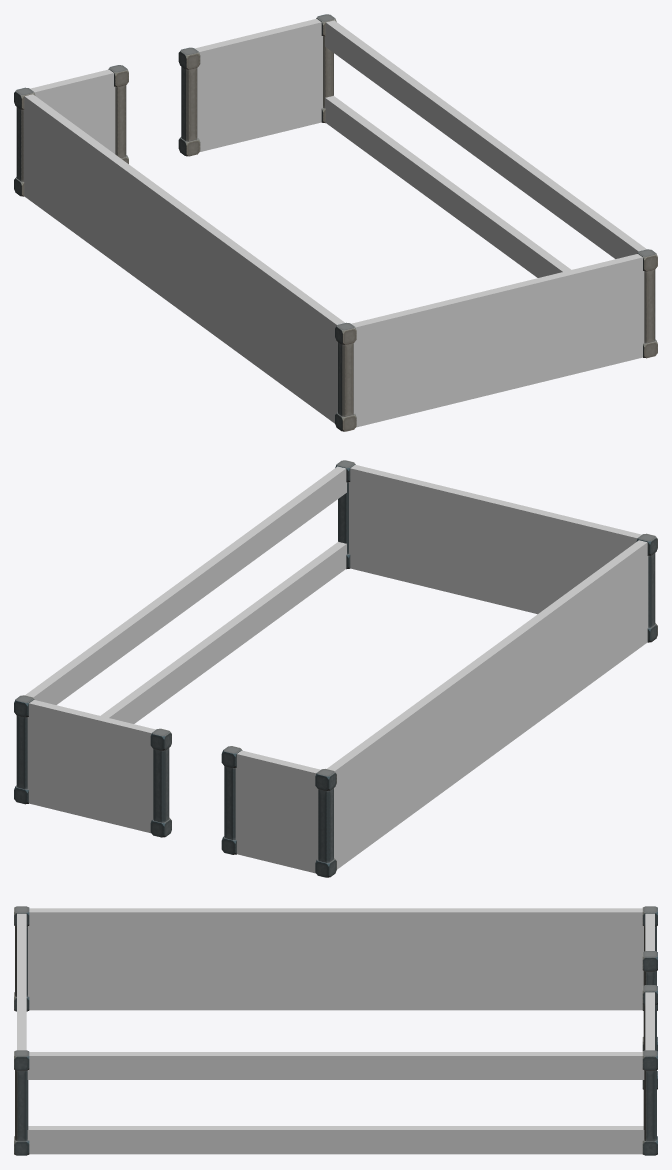
The model's file is Enclosure_TEST_SIZE.fbx.
The picture shows the model from 3 angles, top to bottom: view 1: azimuth 30°, elevation 25°; view 2: azimuth 150°, elevation 25°; view 3: azimuth 270°, elevation 25°; orthographic projection. The views are drawn at different scales.
Parts seen in each view (by area): view 1: Enclosure_Walls_LOW, Enclosure_Poles_LOW; view 2: Enclosure_Walls_LOW, Enclosure_Poles_LOW; view 3: Enclosure_Walls_LOW, Enclosure_Poles_LOW.
Part boxes in pixels (<box>): Enclosure_Walls_LOW: <box>23,18,646,427</box>; Enclosure_Poles_LOW: <box>14,14,657,431</box>; Enclosure_Walls_LOW: <box>25,464,648,873</box>; Enclosure_Poles_LOW: <box>14,460,657,877</box>; Enclosure_Walls_LOW: <box>17,908,654,1154</box>; Enclosure_Poles_LOW: <box>14,906,657,1155</box>.
Bounding box in the file's own units: 1103 × 338 × 1995.
1 material, 1 textured.
